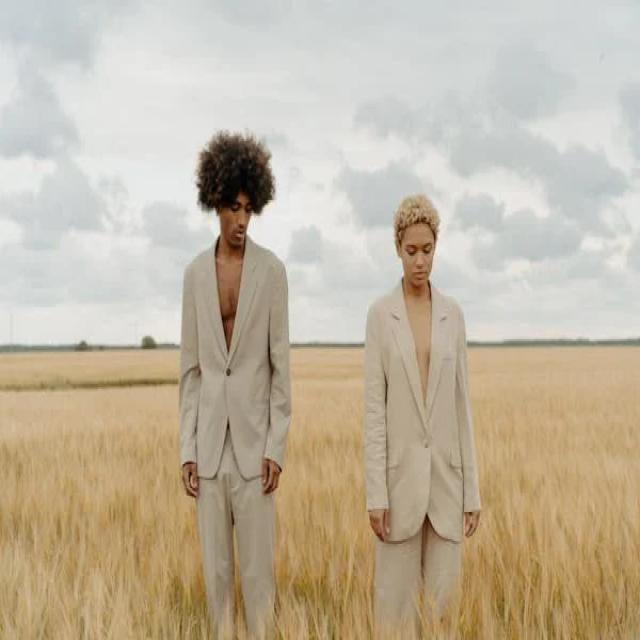Real human 2: (166, 121, 488, 637)
